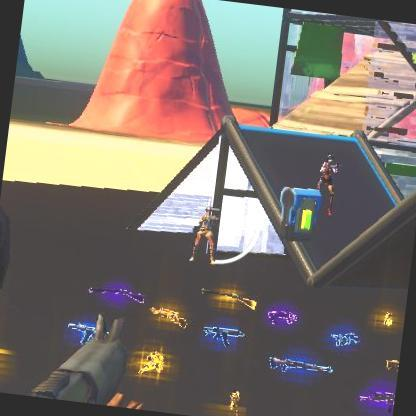person: (310, 158, 346, 222), (194, 205, 219, 263)
